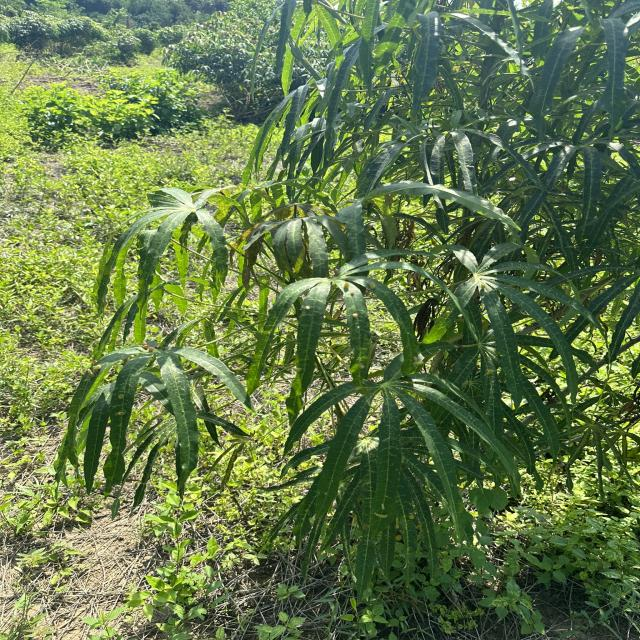Maleza: (9, 45, 143, 206)
Mosca: (104, 386, 127, 419), (173, 453, 196, 481), (369, 496, 390, 523), (365, 528, 391, 548), (332, 275, 356, 295), (366, 275, 385, 300), (301, 291, 319, 312), (349, 306, 364, 329), (408, 499, 422, 523), (356, 342, 366, 375)
